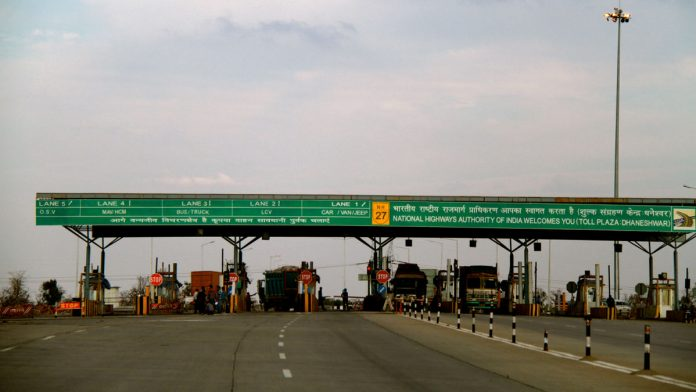toll plaza: (26, 182, 695, 244)
